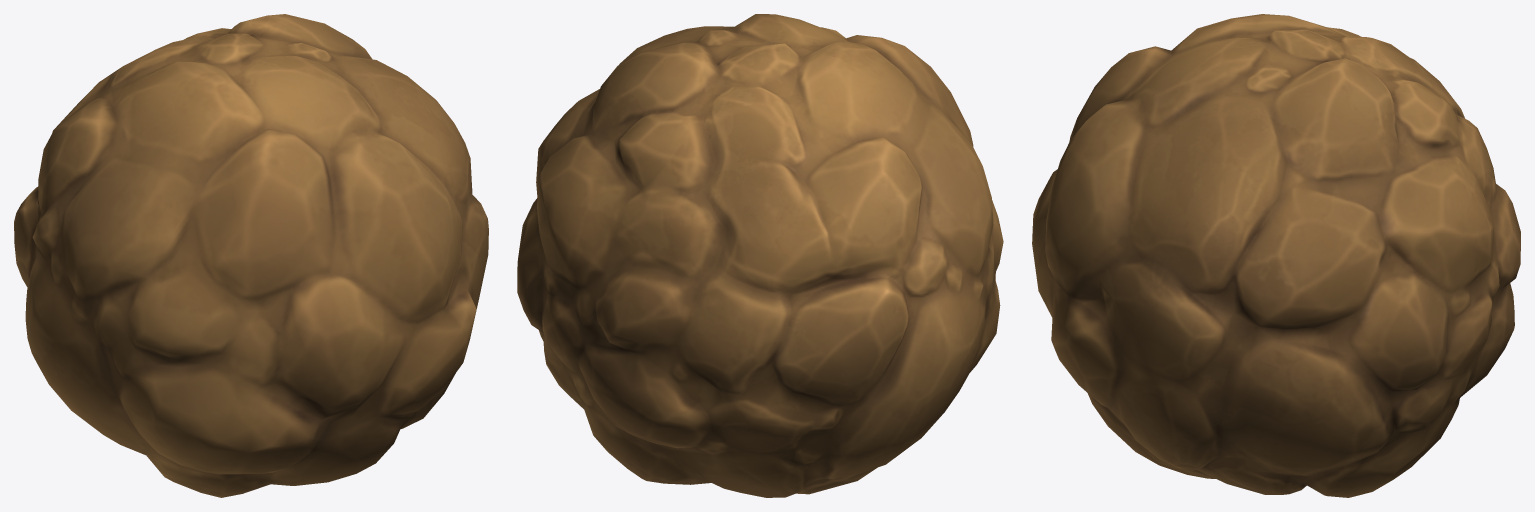
Rendered from Planet_PureRock.fbx.
The picture shows the model from 3 angles, left to right: view 1: azimuth 30°, elevation 25°; view 2: azimuth 150°, elevation 25°; view 3: azimuth 270°, elevation 25°; orthographic projection. The views are drawn at different scales.
Visible parts, largest first — view 1: Planet_PureRock; view 2: Planet_PureRock; view 3: Planet_PureRock.
Part boxes in pixels (x1,y1,x2,y2): Planet_PureRock: [14, 14, 488, 497]; Planet_PureRock: [517, 14, 1003, 497]; Planet_PureRock: [1032, 14, 1520, 497].
Size of the model in its own units: 209 by 208 by 212.
